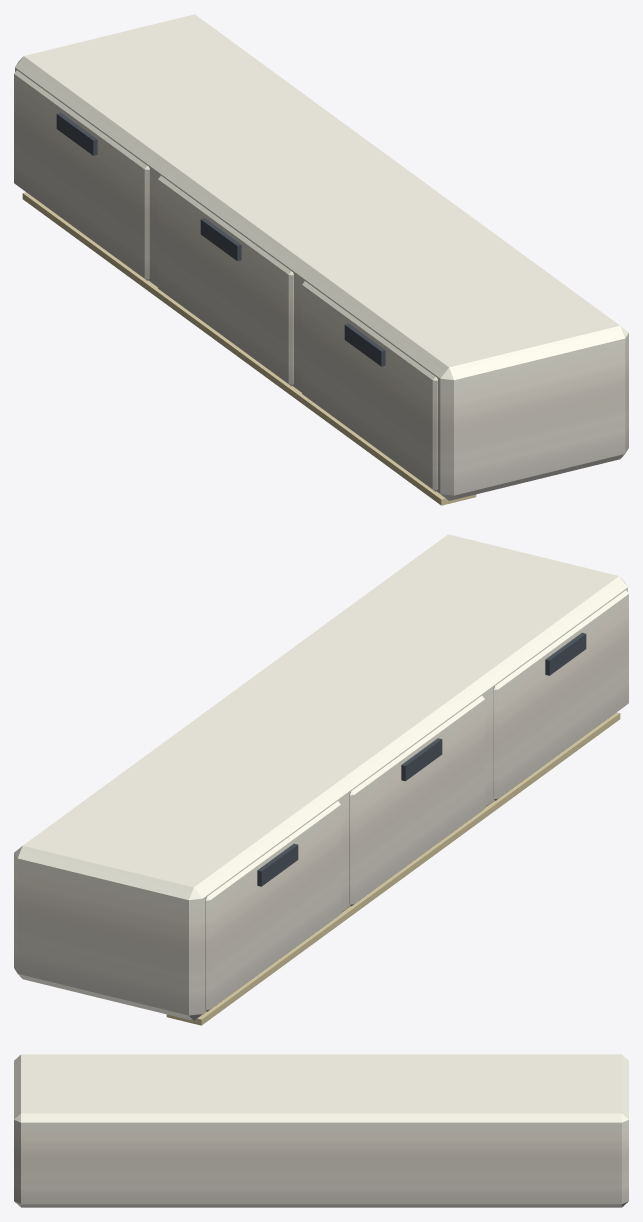
The model's file is Bagageiro.fbx.
3 renders of one model, top to bottom at view 1: azimuth 30°, elevation 25°; view 2: azimuth 150°, elevation 25°; view 3: azimuth 270°, elevation 25°, orthographic. The views are drawn at different scales.
Parts seen in each view (by area): view 1: Bagageiro_Malha; view 2: Bagageiro_Malha; view 3: Bagageiro_Malha.
Part boxes in pixels (x1=…): Bagageiro_Malha: x1=14, y1=14, x2=628, y2=505; Bagageiro_Malha: x1=14, y1=534, x2=628, y2=1025; Bagageiro_Malha: x1=14, y1=1054, x2=628, y2=1207.
Size of the model in its own units: 0.68 by 0.46 by 2.6.
